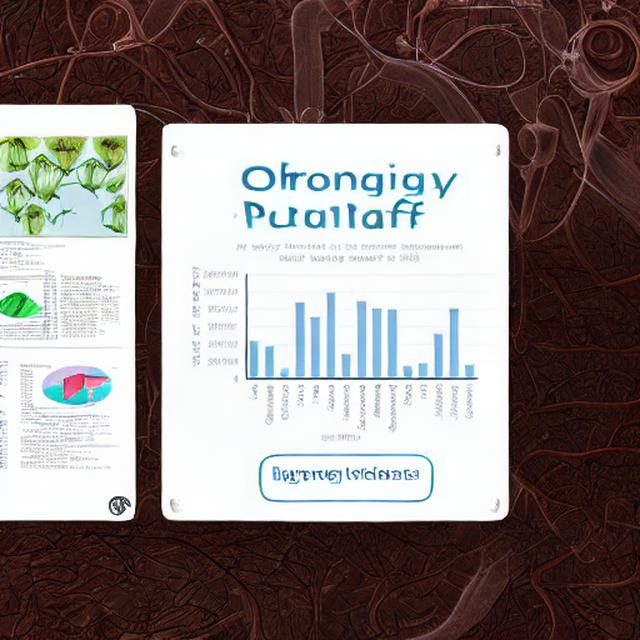Graph: (184, 236, 483, 449)
